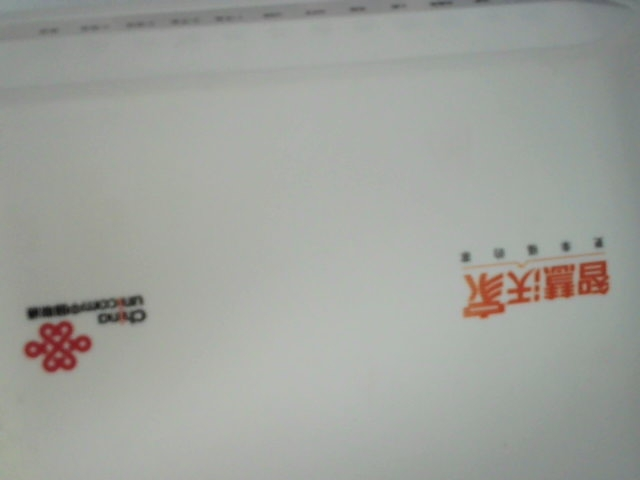AC_ChinaUnicom: (9, 287, 158, 380)
